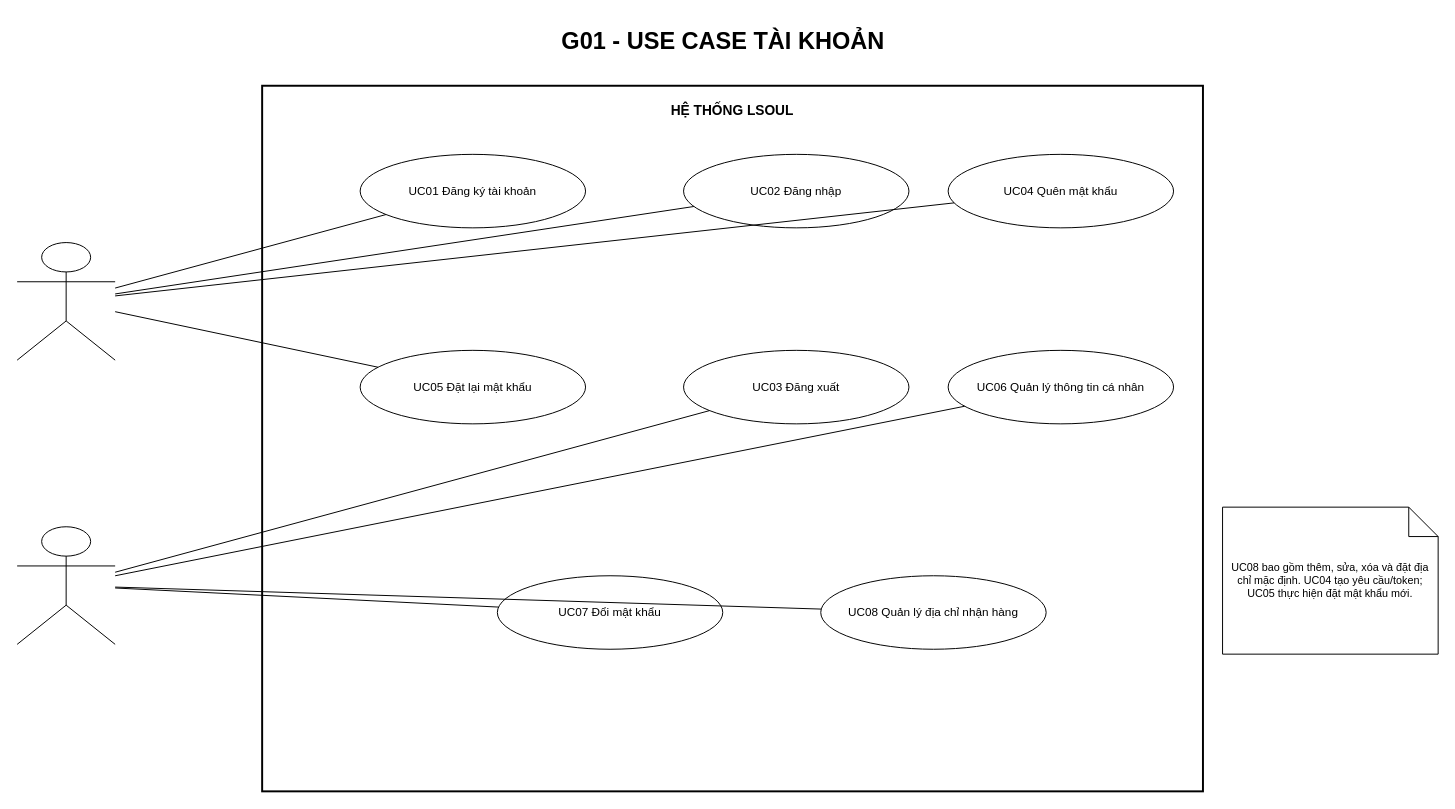
Image size: 1455x809. Some labels were removed from this diagram. Each missing label, with the box of its shape:
Khách hàng: (16, 526, 115, 644)
Khách truy cập: (16, 242, 115, 360)
